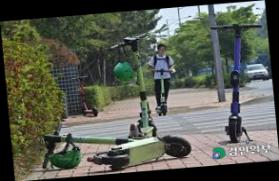nonhelmet: (145, 41, 181, 119)
